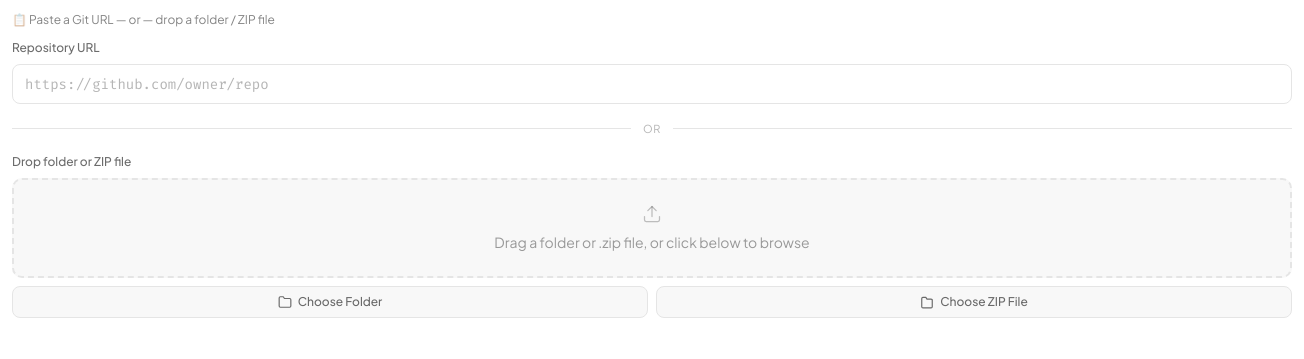
SourceInput › shows GitHub badge when URL is typed
RemoteMode uses internal 300ms debounce for badge
In the field with placeholder "https://github.com/owner/repo": [652, 84] box [12,64,1292,104], type "https://github.com/user/repo"
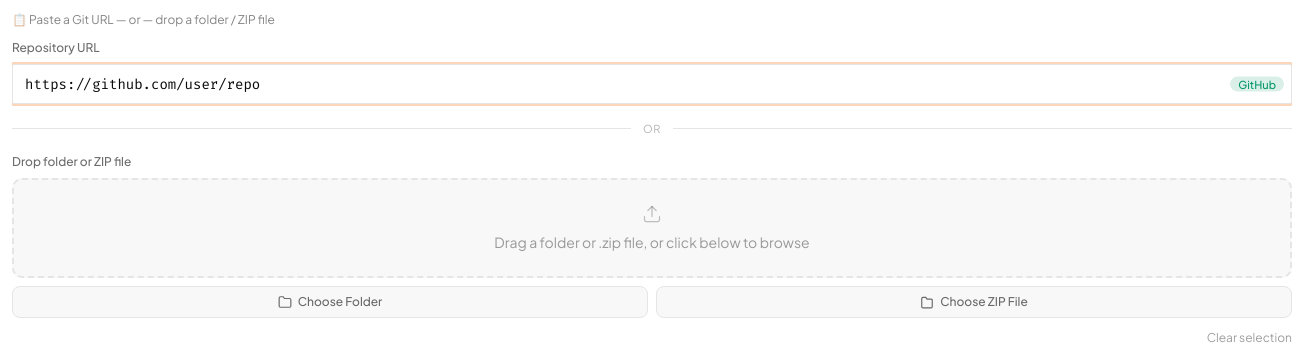
Now the text "GitHub" is shown, box [1230,76,1284,92]
